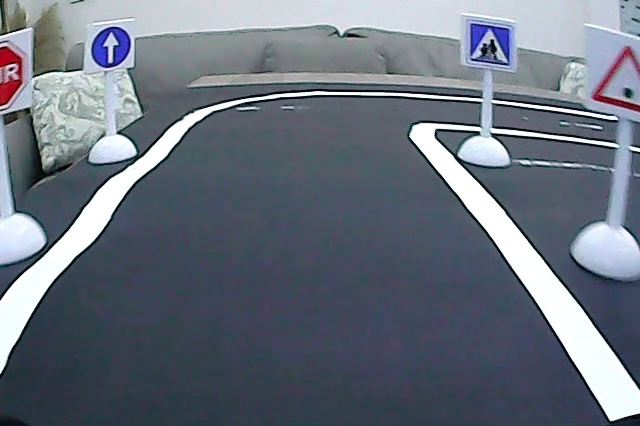green light: (589, 42, 640, 115)
school crossing: (463, 22, 512, 71)
